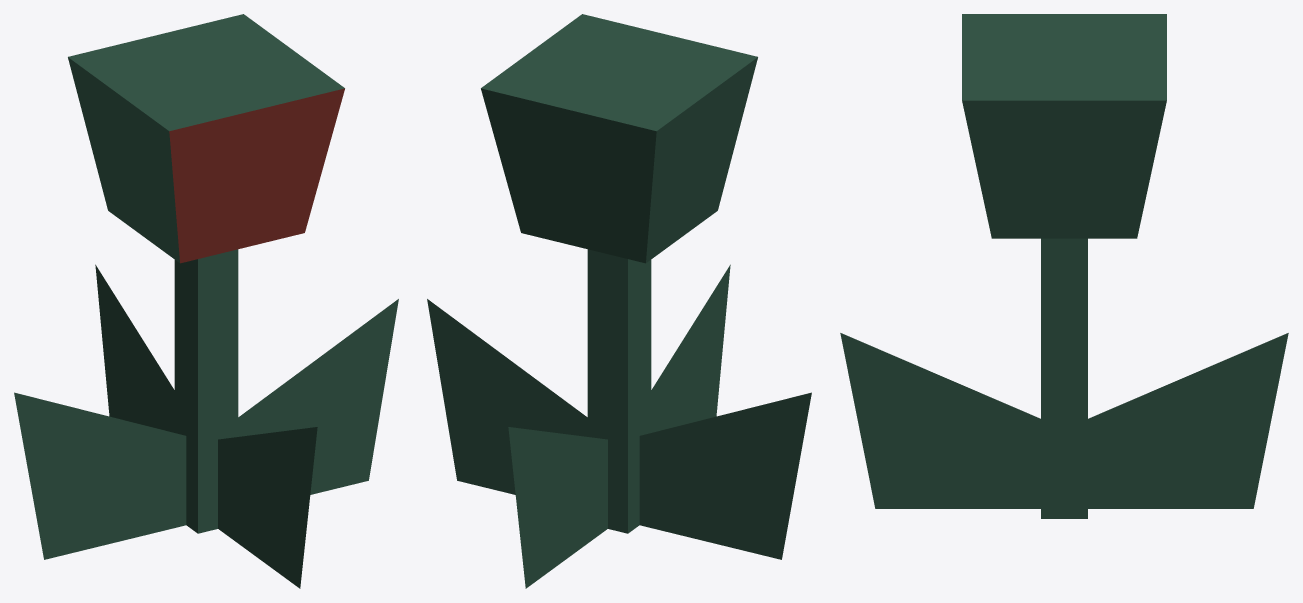
The model's file is Flower_Tall_Red_01.obj.
The picture shows the model from 3 angles, left to right: view 1: azimuth 30°, elevation 25°; view 2: azimuth 150°, elevation 25°; view 3: azimuth 270°, elevation 25°; orthographic projection.
Visible parts, largest first — view 1: Mesh1_Flower_Tall_Red_Model, Mesh5_Flower_Tall_Red_Model, Mesh2_Flower_Tall_Red_Model, Mesh4_Flower_Tall_Red_Model, Mesh3_Flower_Tall_Red_Model; view 2: Mesh1_Flower_Tall_Red_Model, Mesh5_Flower_Tall_Red_Model, Mesh2_Flower_Tall_Red_Model, Mesh3_Flower_Tall_Red_Model, Mesh4_Flower_Tall_Red_Model; view 3: Mesh1_Flower_Tall_Red_Model, Mesh3_Flower_Tall_Red_Model, Mesh4_Flower_Tall_Red_Model.
Part boxes in pixels (x1,y1,x2,y2): Mesh1_Flower_Tall_Red_Model: (68,14,344,533); Mesh5_Flower_Tall_Red_Model: (14,392,186,559); Mesh2_Flower_Tall_Red_Model: (238,299,398,494); Mesh4_Flower_Tall_Red_Model: (218,427,317,588); Mesh3_Flower_Tall_Red_Model: (95,264,174,432); Mesh1_Flower_Tall_Red_Model: (481,14,757,533); Mesh5_Flower_Tall_Red_Model: (639,392,811,559); Mesh2_Flower_Tall_Red_Model: (427,299,587,494); Mesh3_Flower_Tall_Red_Model: (508,427,607,588); Mesh4_Flower_Tall_Red_Model: (651,264,730,432); Mesh1_Flower_Tall_Red_Model: (962,14,1166,518); Mesh3_Flower_Tall_Red_Model: (1088,333,1288,508); Mesh4_Flower_Tall_Red_Model: (840,333,1040,508).
Size of the model in its own units: 0.4859 by 0.54 by 0.4859.
